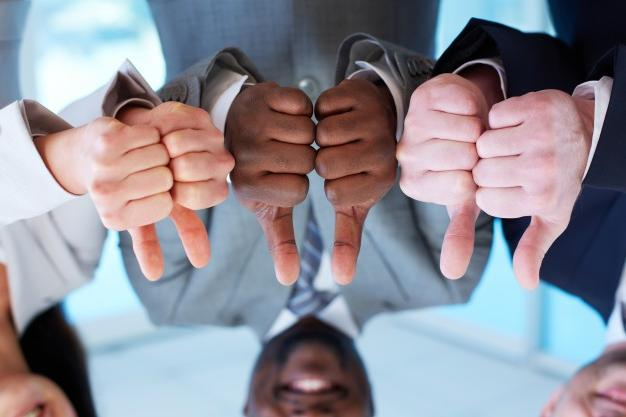thumbsdown: (472, 89, 566, 290), (314, 80, 396, 285), (393, 84, 478, 281), (233, 84, 314, 285), (87, 123, 172, 282), (154, 103, 235, 269)
